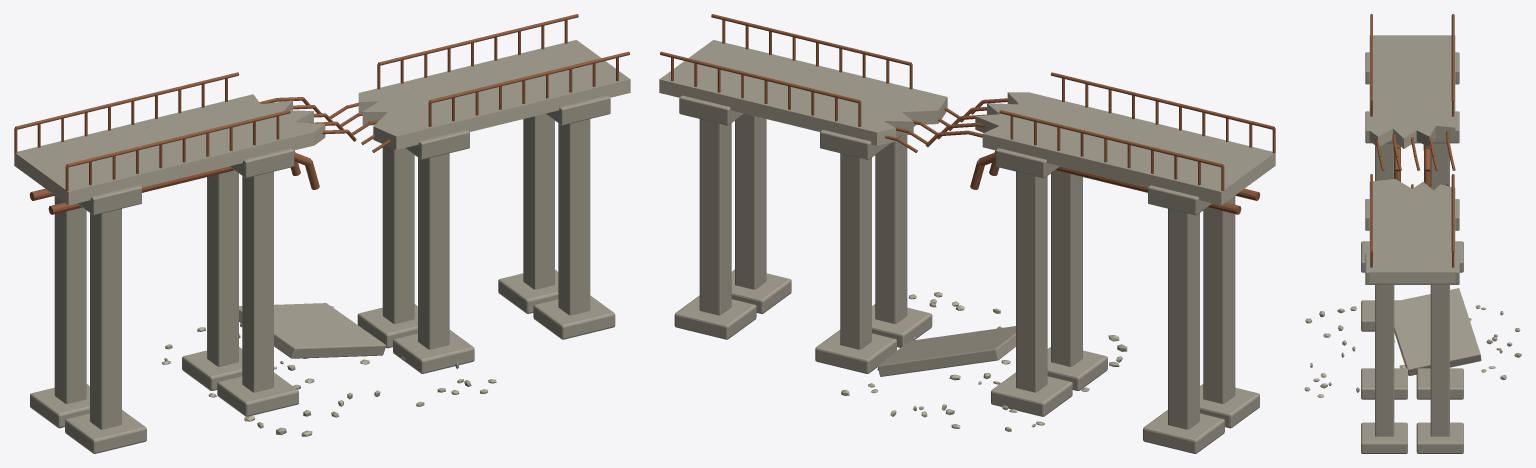
Rendered from Broken_Industrial_Viaduct_Wasteland.glb.
3 views of the same model, side by side, from view 1: azimuth 30°, elevation 25°; view 2: azimuth 150°, elevation 25°; view 3: azimuth 270°, elevation 25° (orthographic). The views are drawn at different scales.
Parts seen in each view (by area): view 1: Structure; view 2: Structure; view 3: Structure.
Part boxes in pixels (x1,y1,x2,y2): Structure: [14, 14, 630, 453]; Structure: [659, 14, 1275, 453]; Structure: [1304, 14, 1521, 453].
Size of the model in its own units: 24.06 by 11.97 by 10.13.
